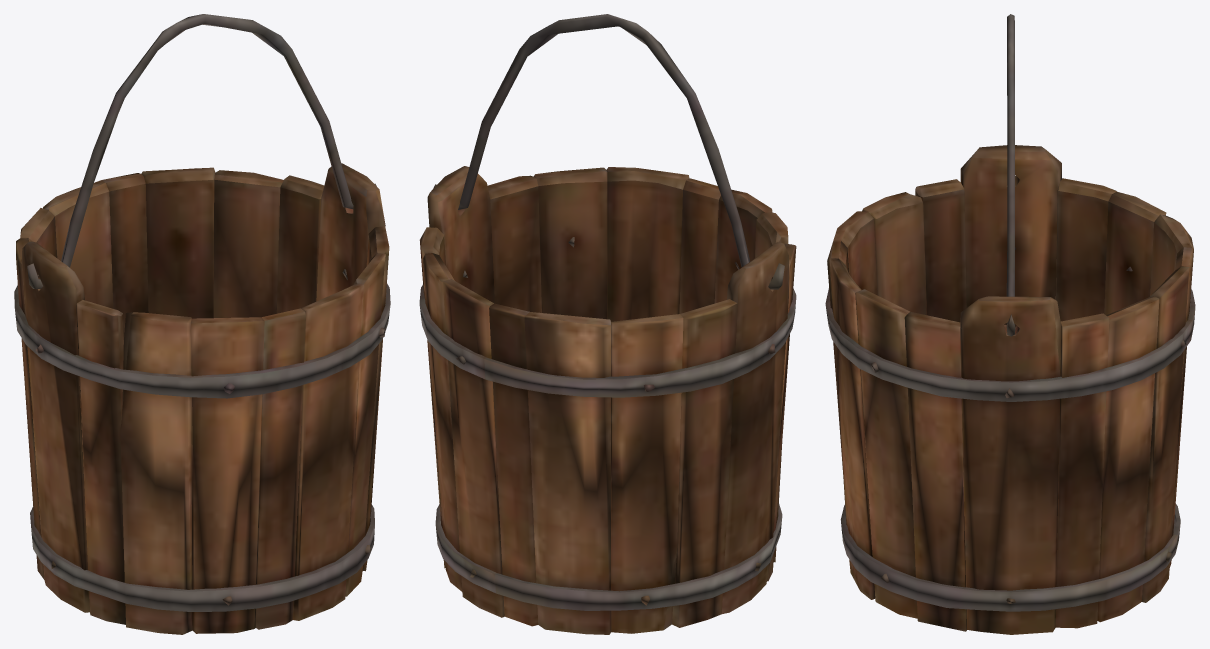
File: bucket.glb
3 renders of one model, left to right at view 1: azimuth 30°, elevation 25°; view 2: azimuth 150°, elevation 25°; view 3: azimuth 270°, elevation 25°, orthographic.
Parts seen in each view (by area): view 1: wooden_bucket_01, wooden_bucket_01_handle; view 2: wooden_bucket_01, wooden_bucket_01_handle; view 3: wooden_bucket_01, wooden_bucket_01_handle.
Boxes of the visible parts, x1,y1,x2,y2 form: wooden_bucket_01: (14, 163, 390, 634); wooden_bucket_01_handle: (27, 14, 376, 288); wooden_bucket_01: (419, 166, 796, 634); wooden_bucket_01_handle: (433, 14, 784, 289); wooden_bucket_01: (825, 145, 1195, 634); wooden_bucket_01_handle: (1006, 14, 1015, 336).
Size of the model in its own units: 0.3663 by 0.5493 by 0.3406.
Materials: 1 (1 with a texture image).
